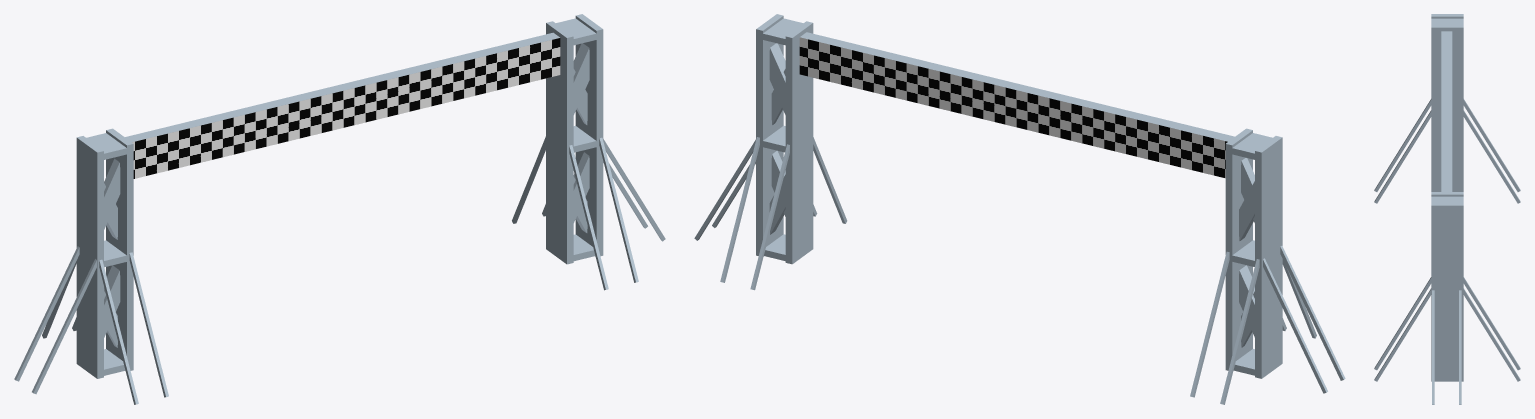
File: start-gate.FBX
3 renders of one model, left to right at view 1: azimuth 30°, elevation 25°; view 2: azimuth 150°, elevation 25°; view 3: azimuth 270°, elevation 25°, orthographic. The views are drawn at different scales.
Visible parts, largest first — view 1: Box03; view 2: Box03; view 3: Box03.
Boxes of the visible parts, x1,y1,x2,y2 form: Box03: (14, 14, 665, 404); Box03: (694, 14, 1345, 404); Box03: (1374, 14, 1520, 404).
Size of the model in its own units: 175 by 60.24 by 45.2.
